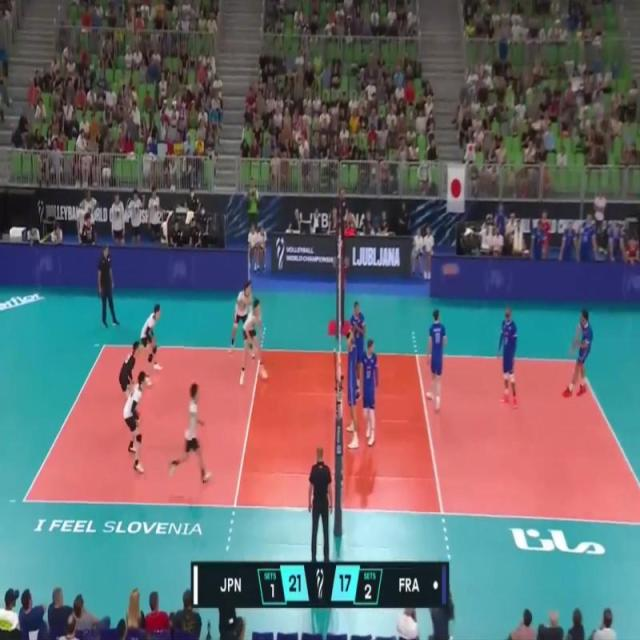volleyball: (442, 260, 459, 278)
